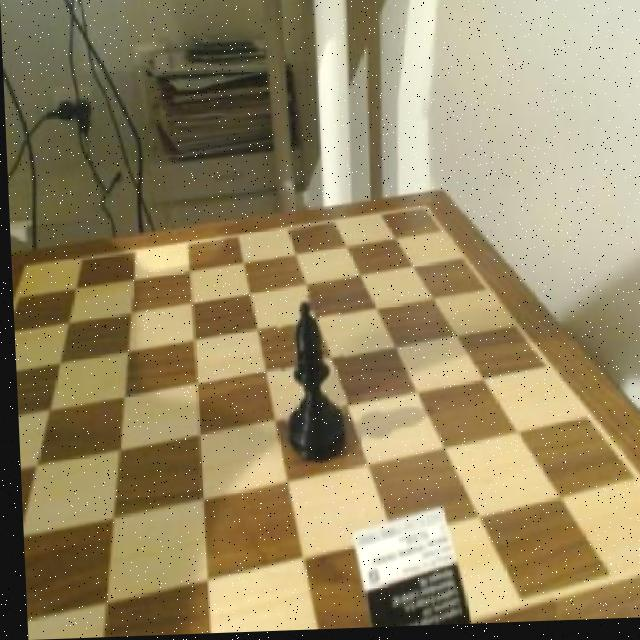bishop: (274, 295, 347, 469)
